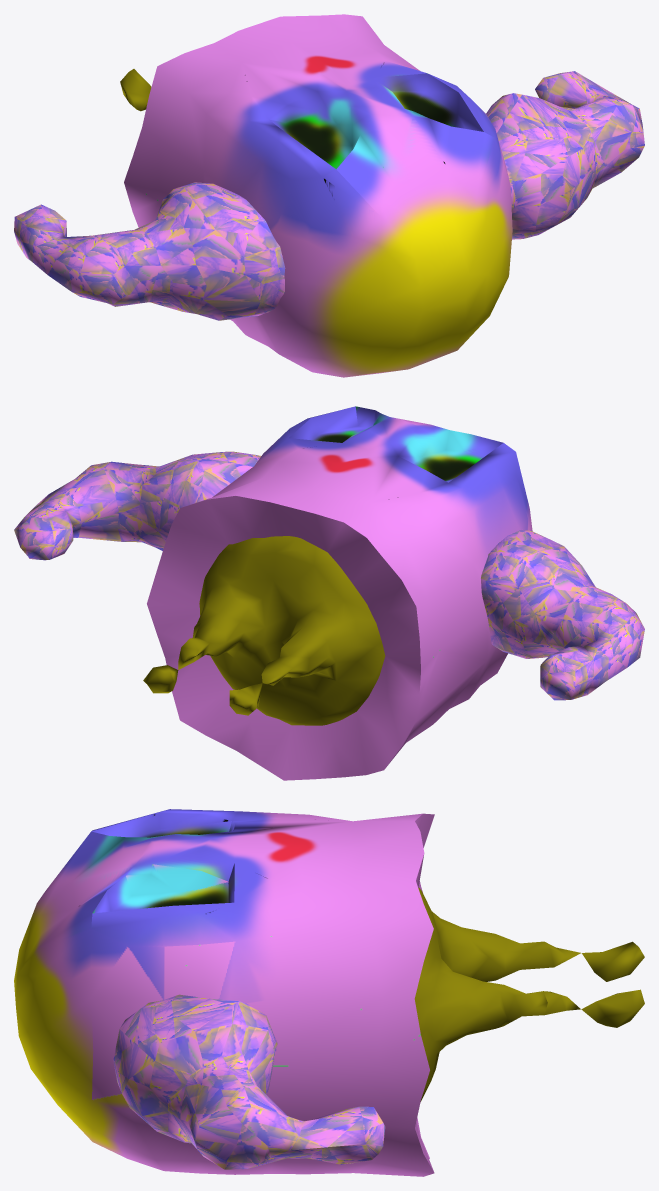
The model's file is fine_ghost.obj.
3 renders of one model, top to bottom at view 1: azimuth 30°, elevation 25°; view 2: azimuth 150°, elevation 25°; view 3: azimuth 270°, elevation 25°, orthographic. The views are drawn at different scales.
Parts seen in each view (by area): view 1: ghost_Cube; view 2: ghost_Cube; view 3: ghost_Cube.
Part boxes in pixels (x1,y1,x2,y2): ghost_Cube: (14,14,644,377); ghost_Cube: (14,406,644,780); ghost_Cube: (14,809,644,1176).
Bounding box in the file's own units: 5.44 × 2.43 × 4.4.
